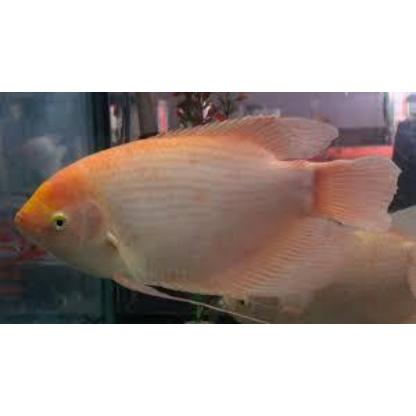gurame: (17, 118, 379, 290)
